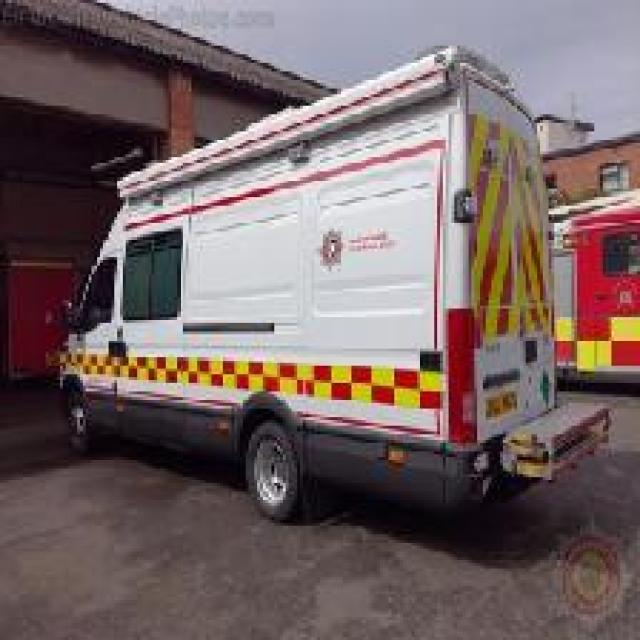MiniBus: (51, 43, 612, 523)
